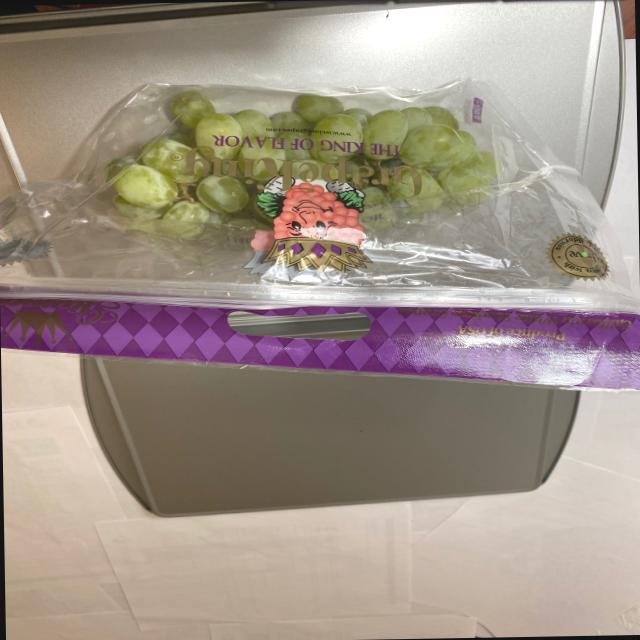grapes: (71, 92, 498, 235)
